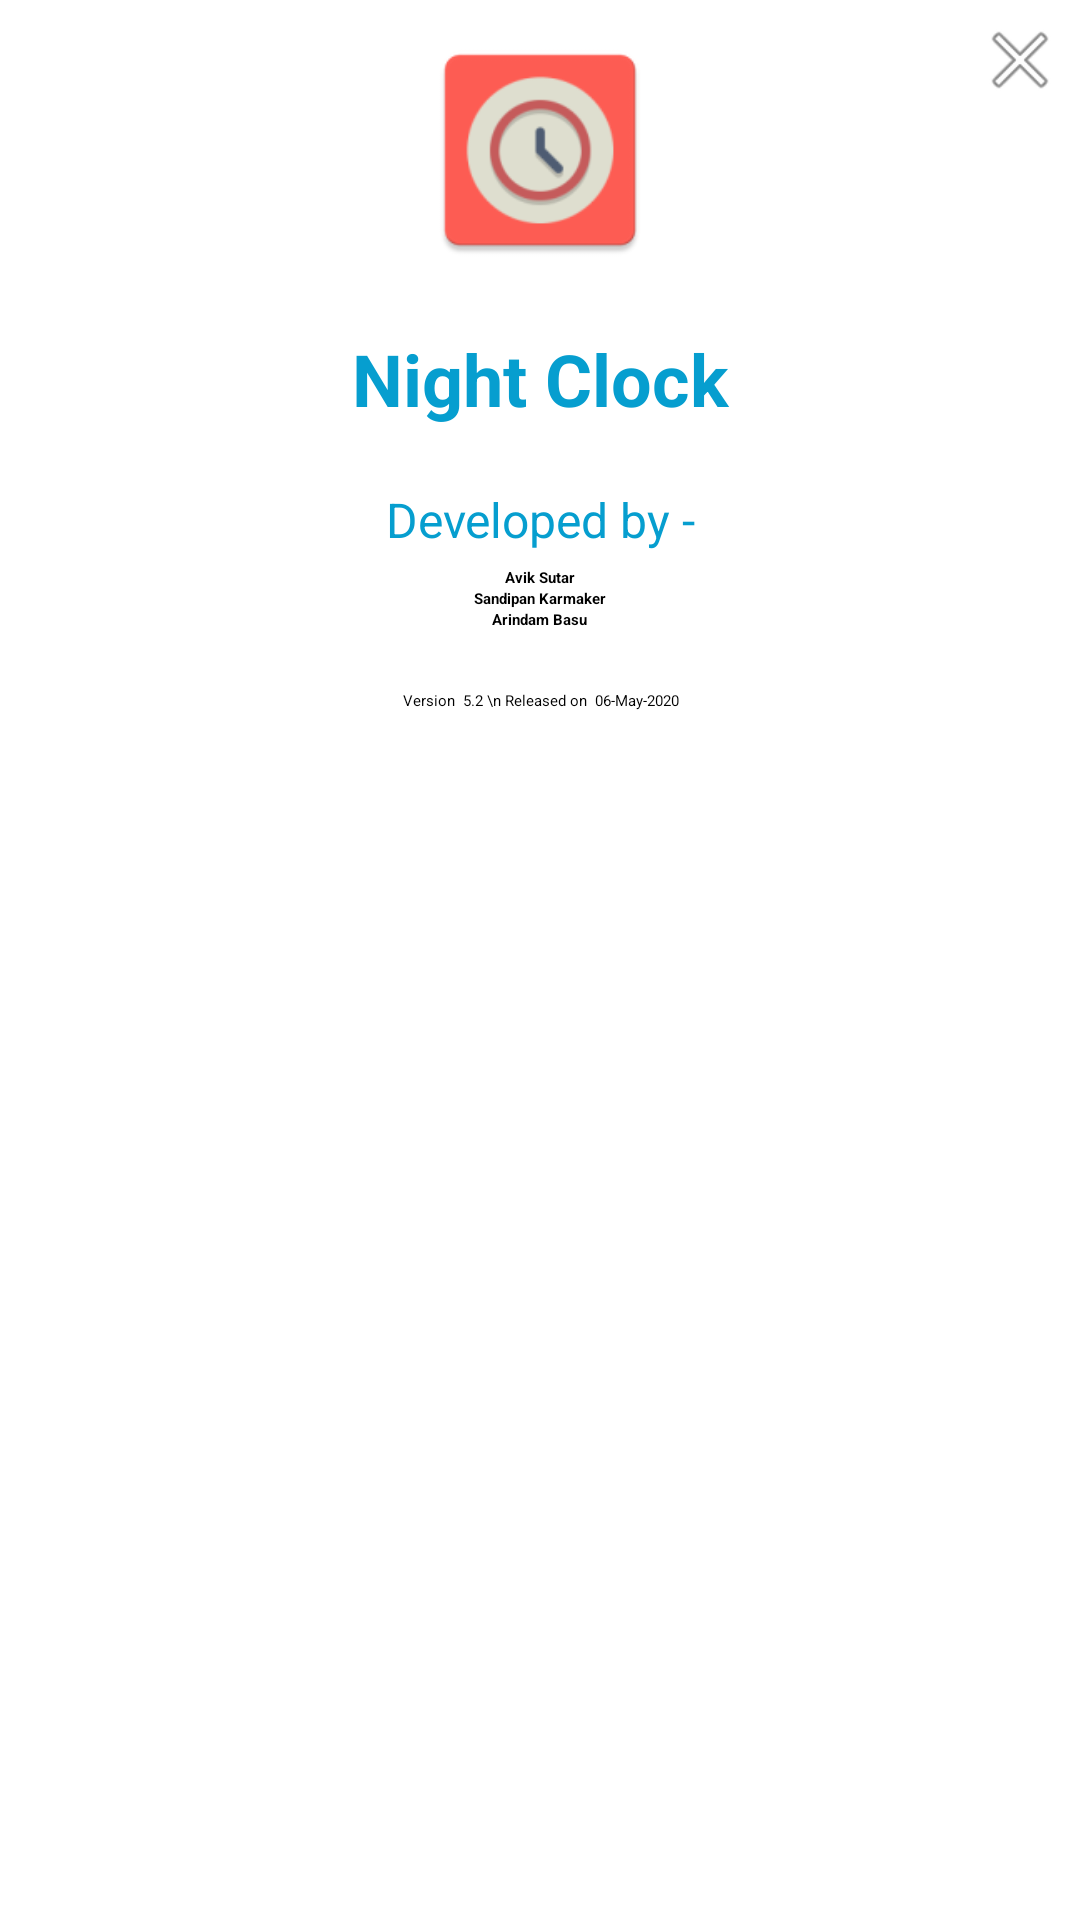

Icons on this 1080x1920 Android screen, each with the point to tap as [x,y]:
close clear cancel: [1020,60]
